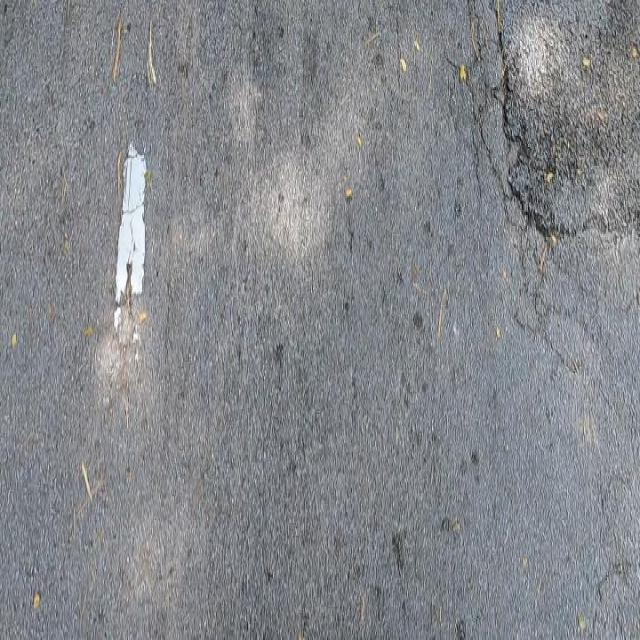cracks: (454, 0, 640, 427)
